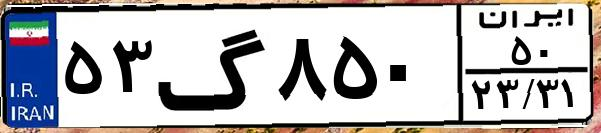0: (385, 28, 445, 110), (537, 27, 568, 80)
1: (560, 70, 590, 125)
2: (470, 70, 495, 125)
3: (110, 28, 156, 98), (495, 70, 520, 125), (535, 70, 560, 125)
5: (330, 28, 385, 110), (57, 26, 110, 100), (508, 27, 537, 80)
8: (270, 28, 330, 110)
گ: (156, 12, 270, 120)
